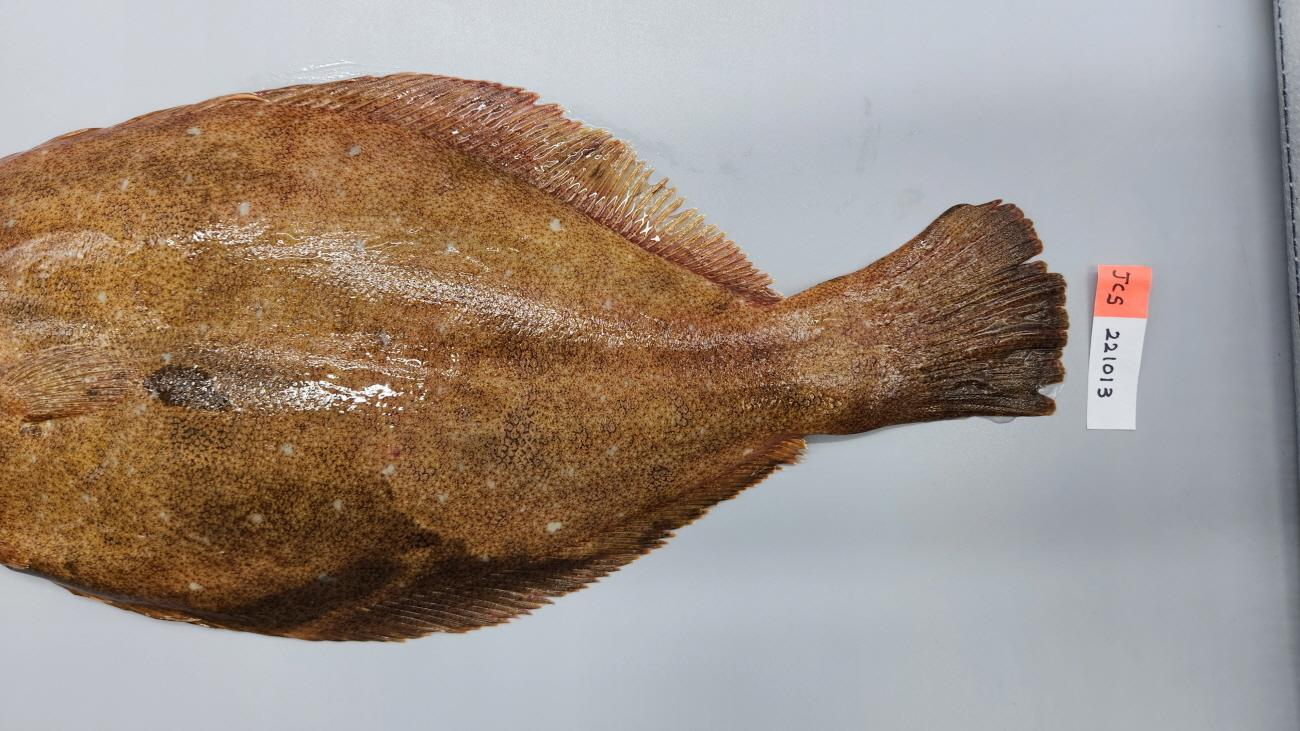VIFCH: (892, 199, 1070, 422)
